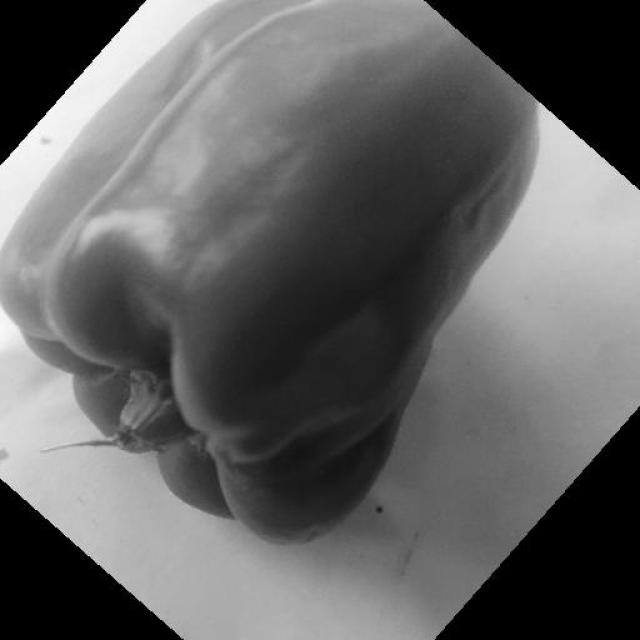Stale_Capsicum: (171, 98, 586, 530)
